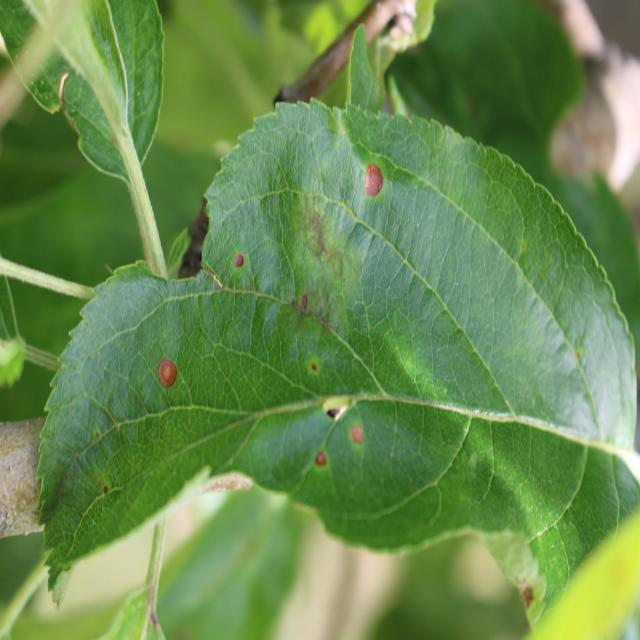frog-eye-leaf-spot: (36, 96, 640, 630)
